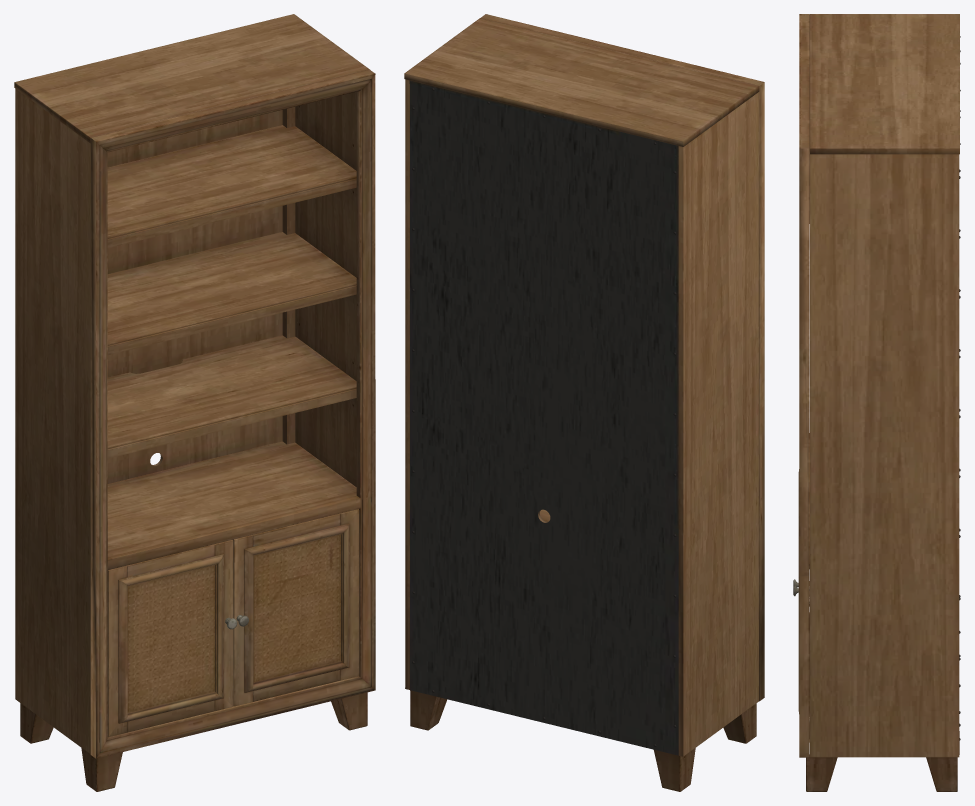
Rendered from B07B7J2VCD.glb.
The picture shows the model from 3 angles, left to right: view 1: azimuth 30°, elevation 25°; view 2: azimuth 150°, elevation 25°; view 3: azimuth 270°, elevation 25°; orthographic projection.
Visible parts, largest first — view 1: RootNode; view 2: RootNode; view 3: RootNode.
Boxes of the visible parts, box(x1,y1,x2,y2) form: RootNode: box(14, 14, 375, 791); RootNode: box(404, 14, 764, 791); RootNode: box(793, 14, 960, 791).
Bounding box in the file's own units: 0.8635 × 1.93 × 0.4529.
Materials: 1 (1 with a texture image).
